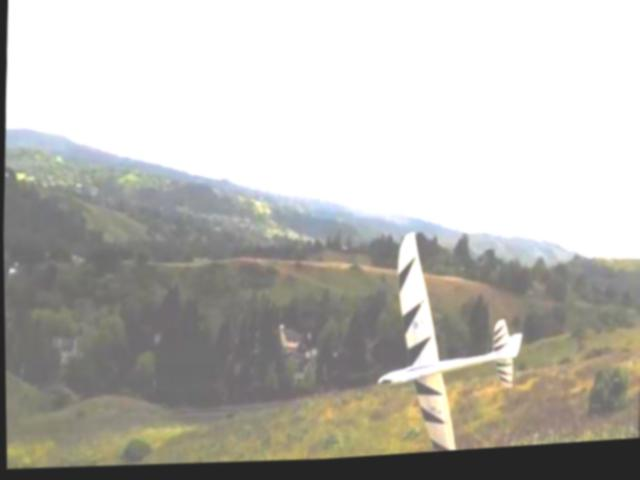iha: (375, 230, 525, 461)
